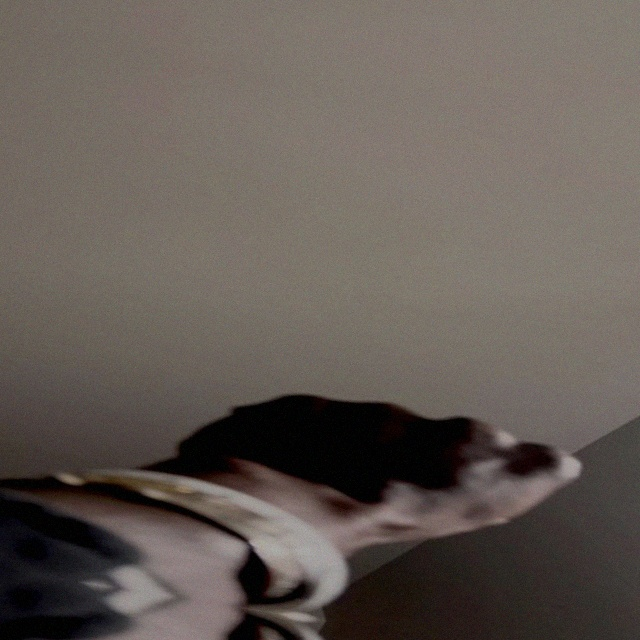Rock: (162, 368, 592, 572)
